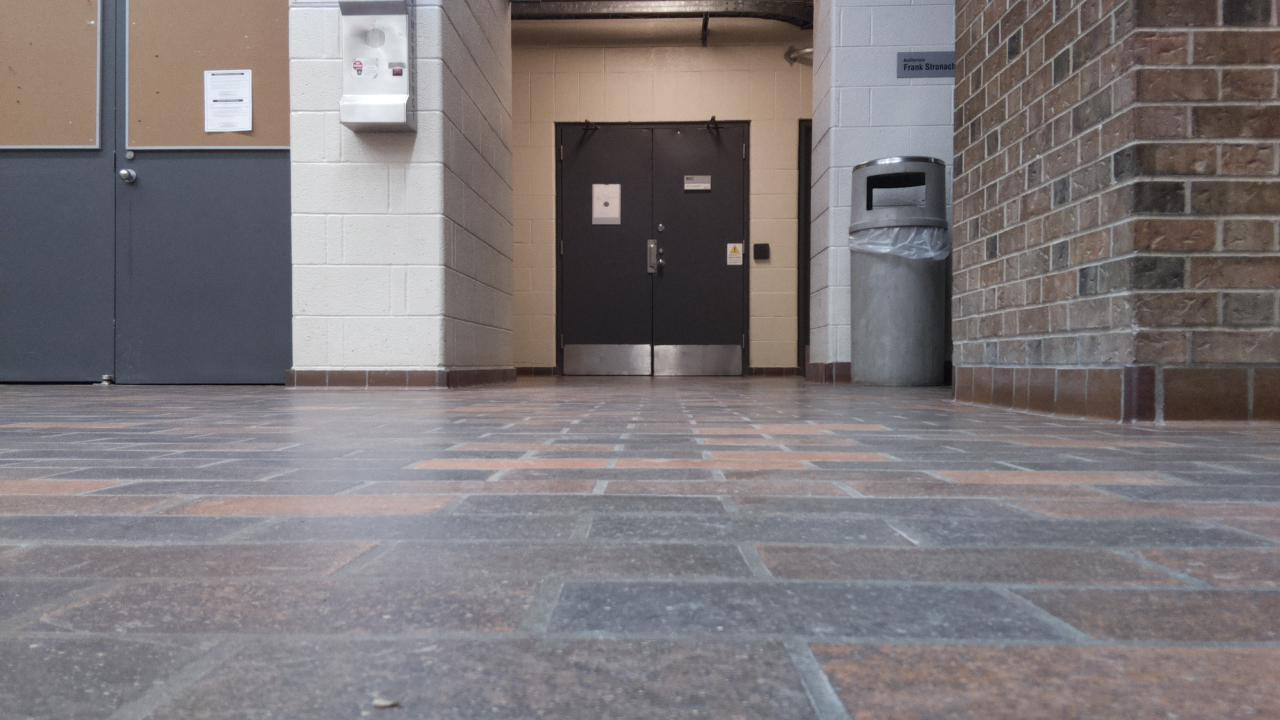door: (116, 0, 288, 382), (561, 124, 742, 375)
sign: (684, 175, 710, 188), (727, 244, 741, 264)
